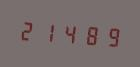eight: (78, 20, 97, 48)
four: (58, 19, 77, 47)
nine: (98, 22, 117, 50)
one: (38, 17, 57, 46)
two: (18, 16, 37, 44)
